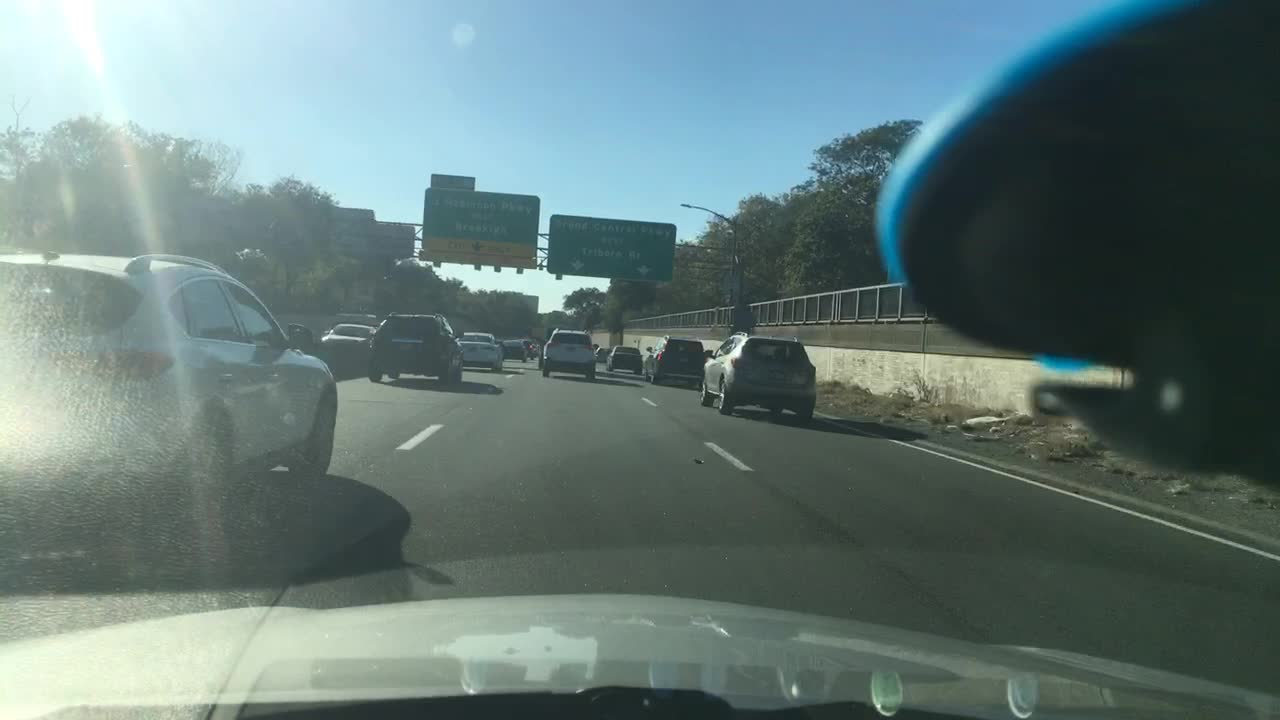car: (1, 244, 342, 536), (697, 329, 818, 425), (364, 309, 465, 384), (641, 333, 713, 386), (539, 325, 597, 383), (455, 329, 506, 373), (318, 321, 376, 344), (603, 344, 644, 376), (501, 338, 530, 364), (519, 338, 537, 359), (593, 345, 612, 363), (530, 342, 539, 358)
traffic sign: (419, 172, 540, 271), (547, 211, 677, 282), (331, 205, 415, 260)
